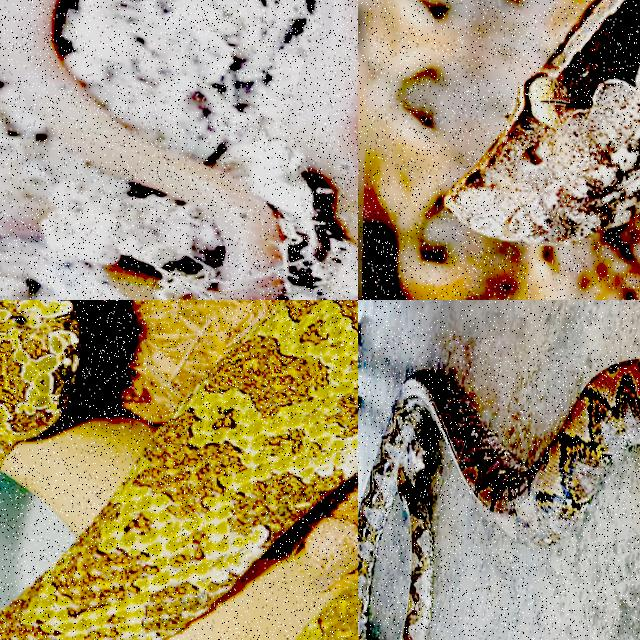Calliophis maculiceps: (0, 0, 282, 299)
Calloselasma rhodostoma: (366, 0, 639, 299)
Malayopython reticulatus: (358, 360, 639, 639)
Ovophis monticola: (0, 300, 357, 639)
